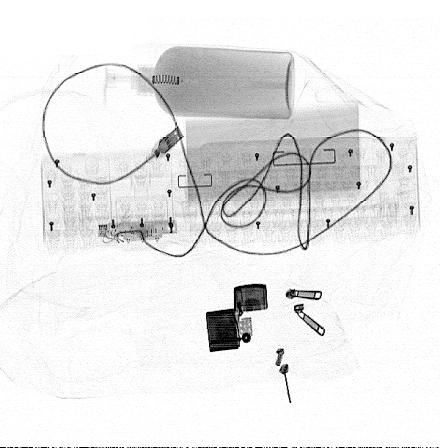Lighter: (206, 284, 268, 352)
